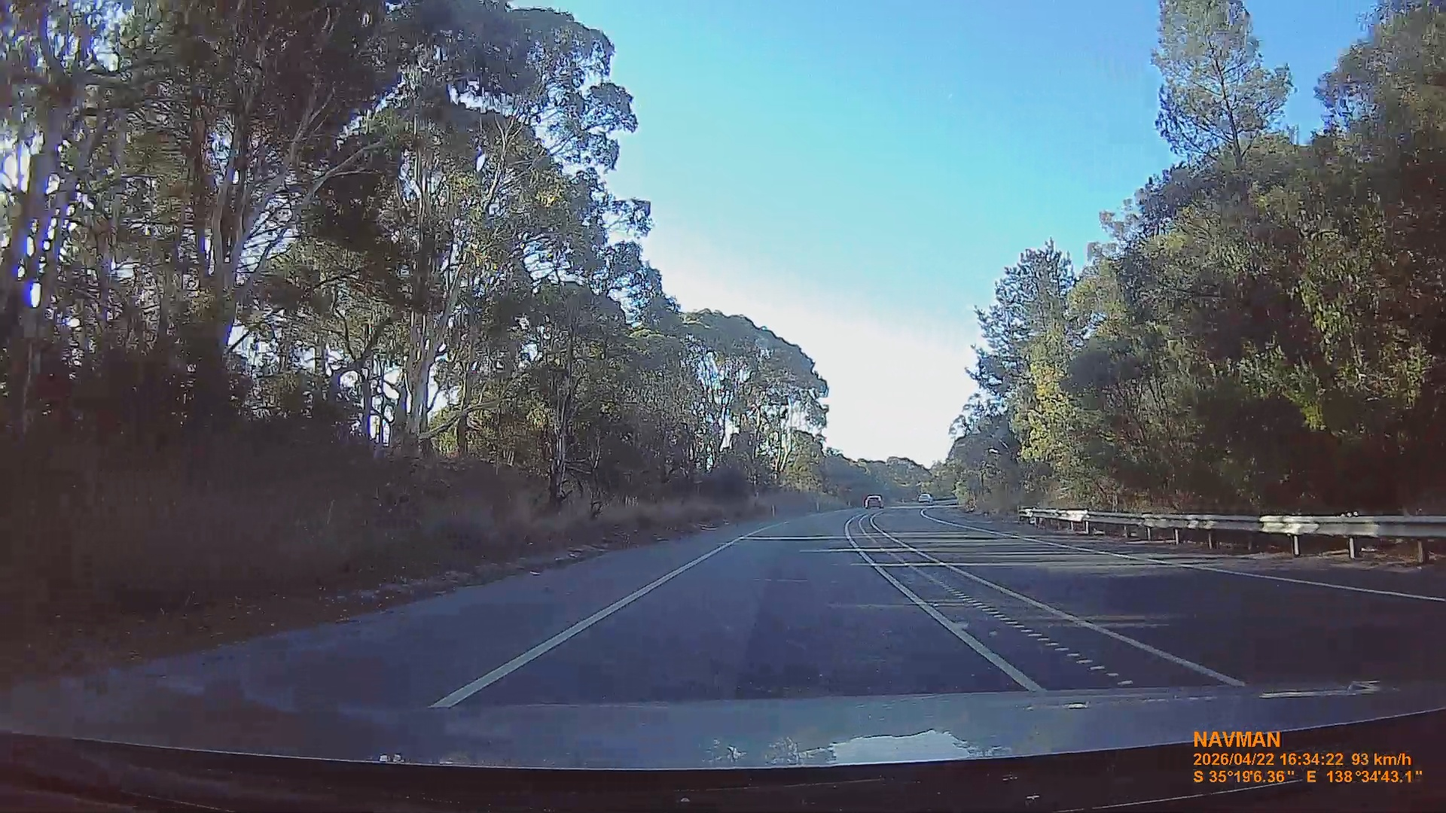road barriers: (1023, 507, 1444, 565)
